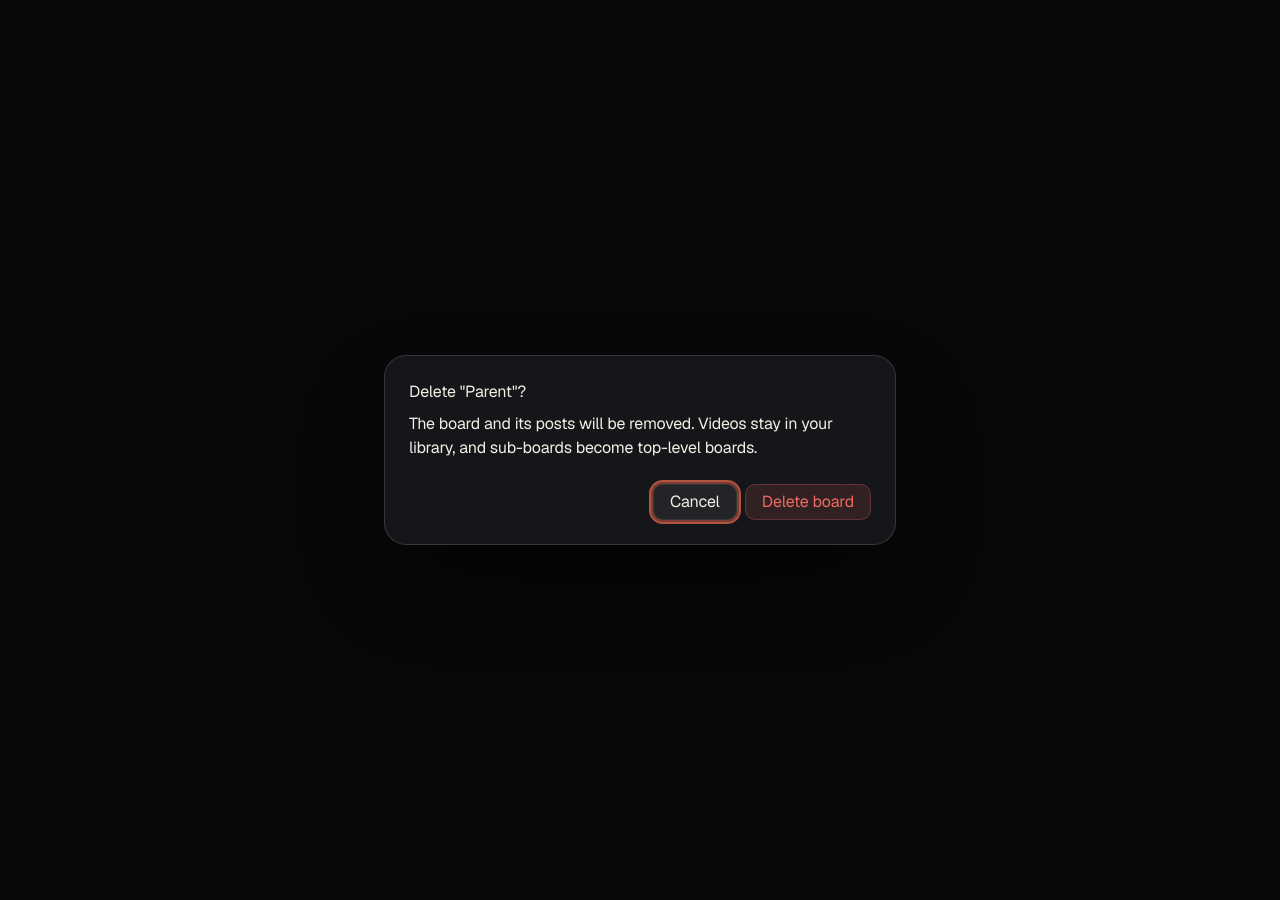
DeleteCategoryDialog › keeps the dialog open and reports a failed removal
The image size is (1280, 900).
What coordinates should you click on to do the following:
click the button "Delete board"
I would click on:
 (808, 502)
Its box is [745, 484, 871, 520].
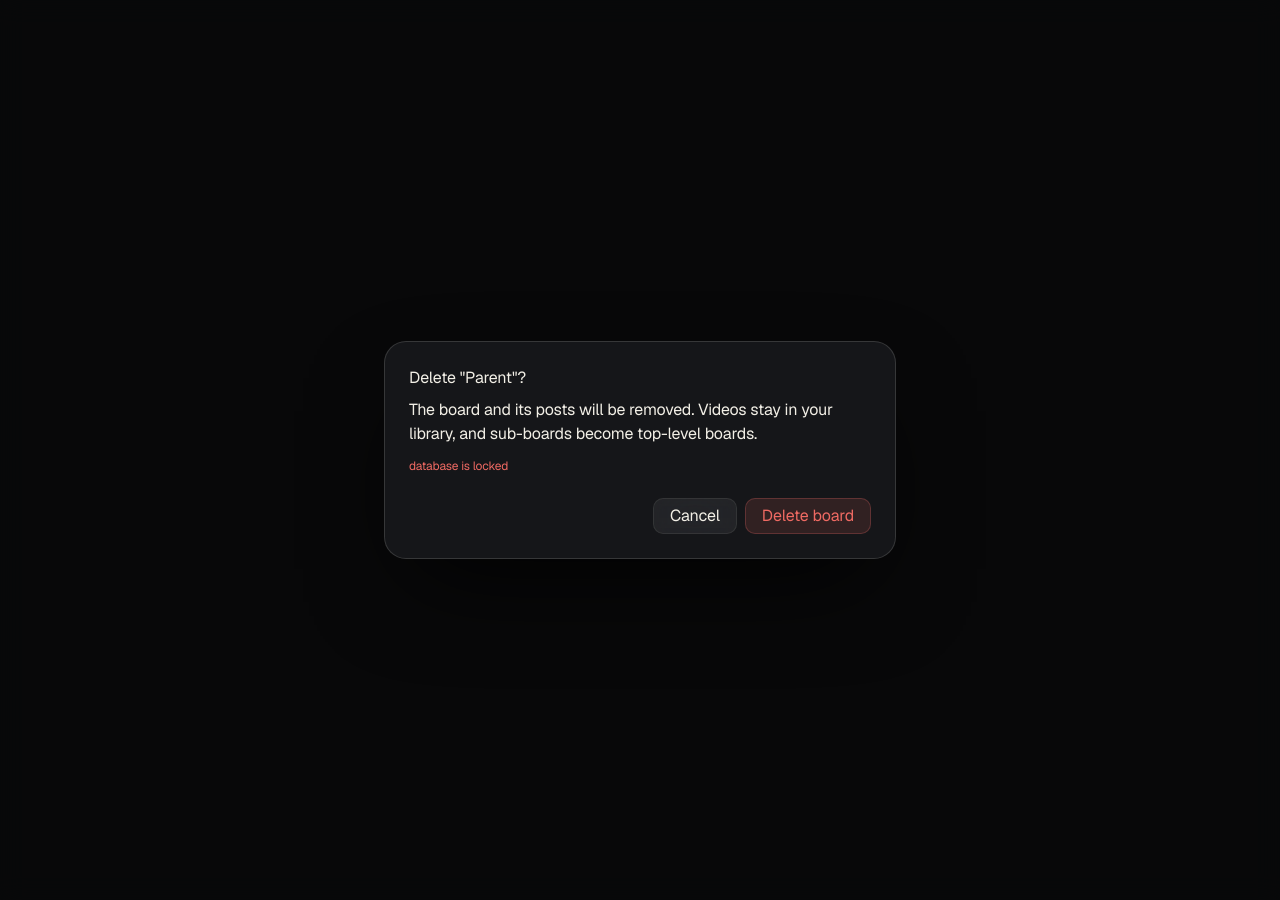
Check: the message reads "database is locked", box [409, 458, 508, 474]
